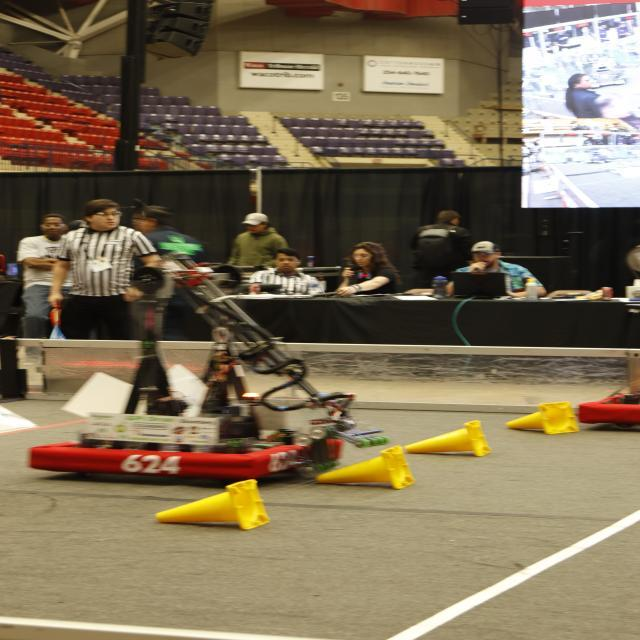robot: (11, 250, 357, 488), (572, 336, 640, 436)
